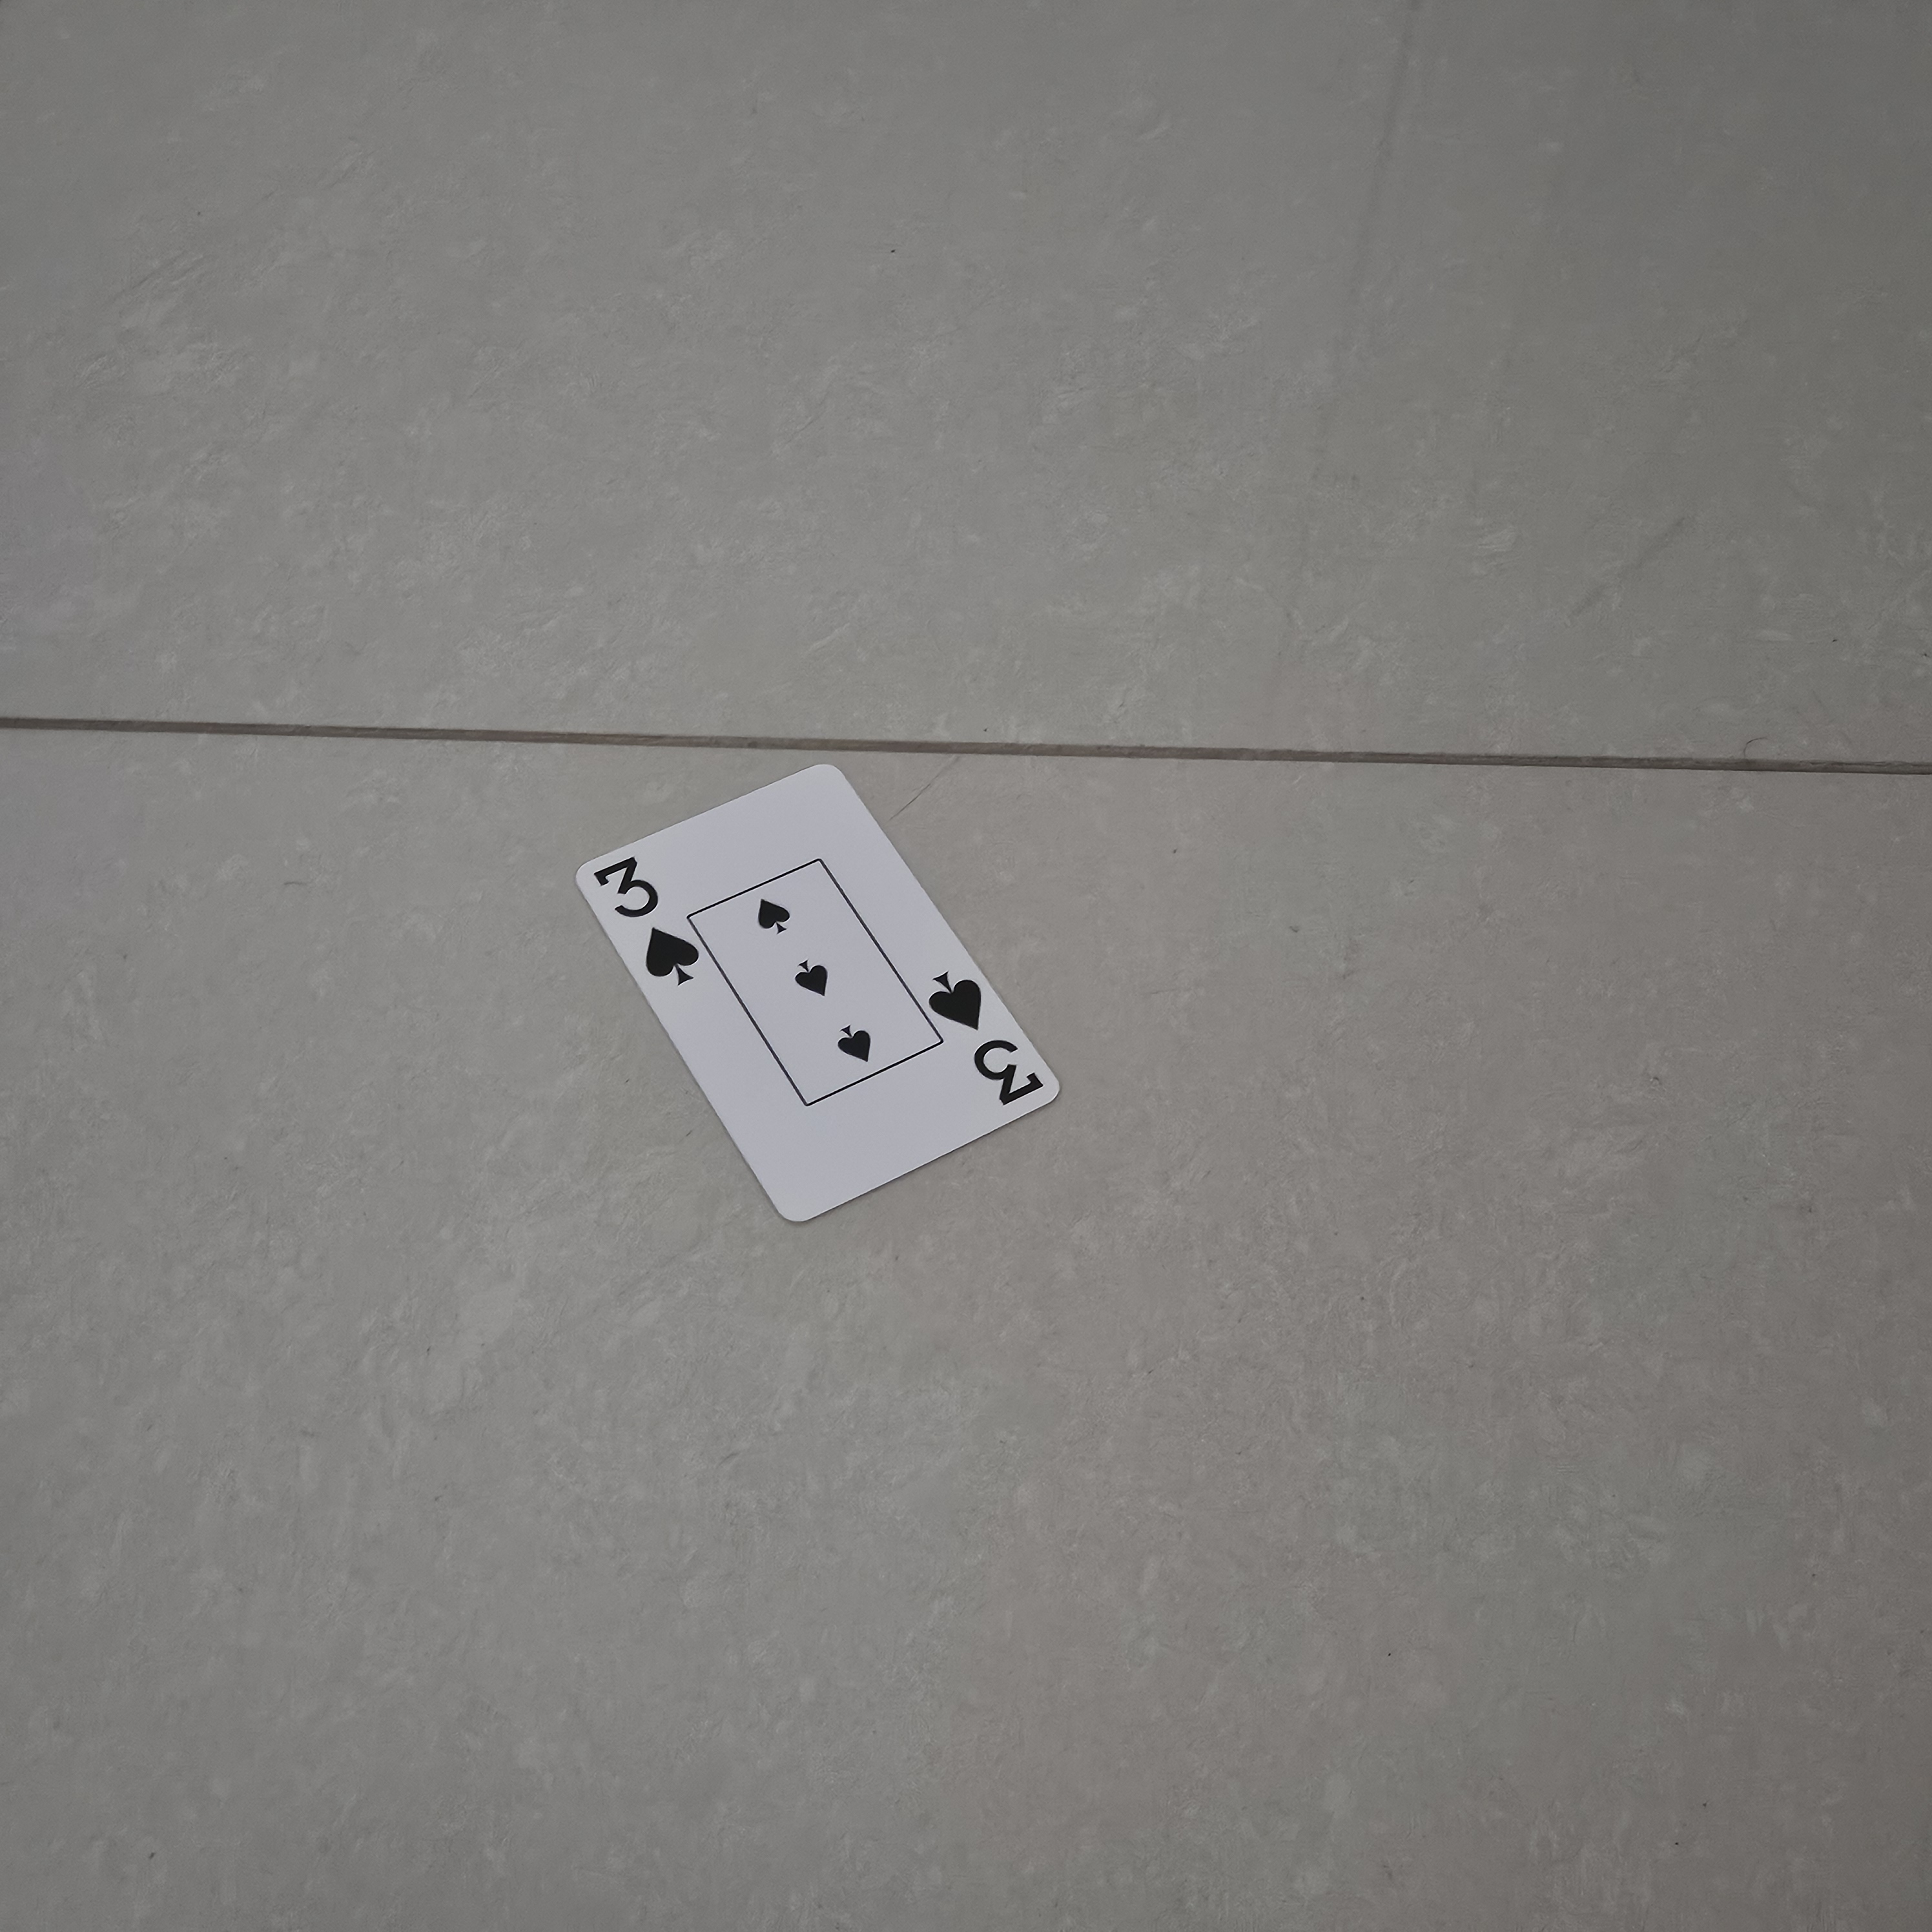3E: (920, 959, 1053, 1116), (580, 846, 709, 1003)
